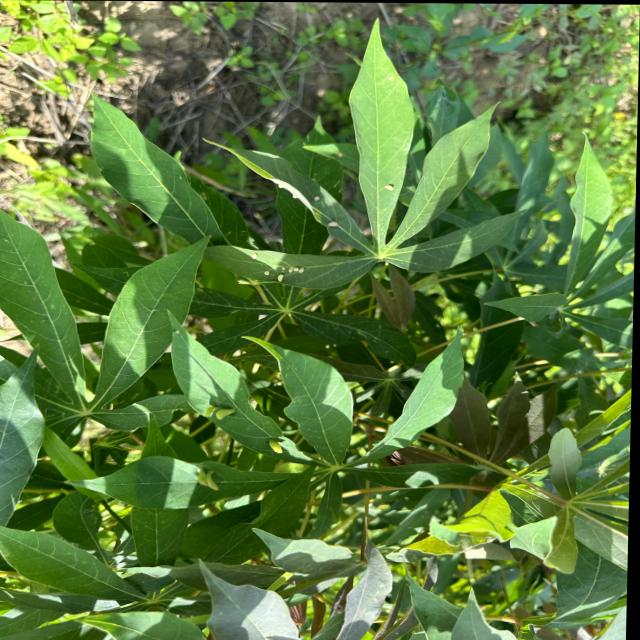Mosca: (262, 425, 308, 461), (256, 256, 308, 284), (197, 388, 240, 420), (533, 203, 560, 233), (376, 175, 413, 196)
